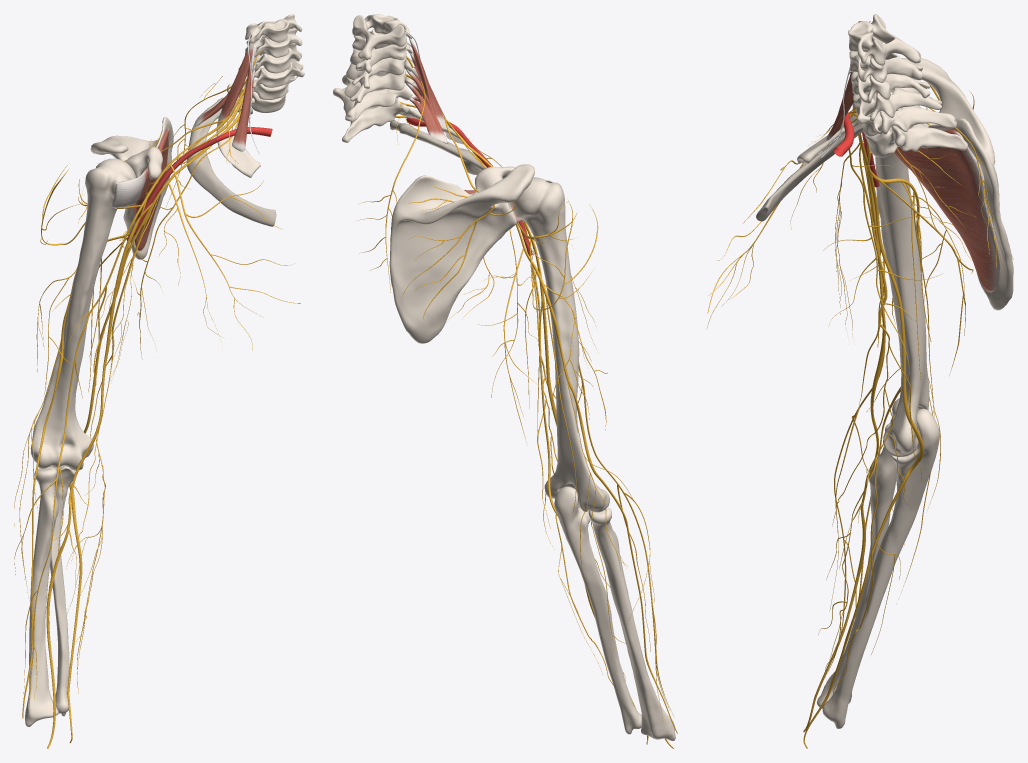
The model's file is brachial-plexus-and-branches.glb.
3 views of the same model, side by side, from view 1: azimuth 30°, elevation 25°; view 2: azimuth 150°, elevation 25°; view 3: azimuth 270°, elevation 25° (orthographic). The views are drawn at different scales.
Parts seen in each view (by area): view 1: Humerus.r, Radius.r, Scapula.r, Ulna.r, Rib (2nd).r, Median nerve.r, Subscapularis muscle.r, Medial antebrachial cutaneous nerve.r, Ulnar nerve.r, Musculocutaneus nerve - lateral antebrachial cutaneous nerve, Rib (1st).r, Musculocutaneus nerve.r (+16 smaller); view 2: Scapula.r, Humerus.r, Ulna.r, Radius.r, Radial nerve.r, Cervical vertebra (C3), Thoracic vertebra (T1), Cervical vertebra (C7), Medial antebrachial cutaneous nerve.r, Rib (2nd).r, Cervical vertebra (C6), Suprascapular nerve.r (+11 smaller); view 3: Humerus.r, Ulna.r, Subscapularis muscle.r, Scapula.r, Radius.r, Medial antebrachial cutaneous nerve.r, Ulnar nerve.r, Thoracic vertebra (T1), Cervical vertebra (C3), Median nerve.r, Cervical vertebra (C7), Cervical vertebra (C6) (+11 smaller).
Part boxes in pixels (box(x1,y1,x2,y2)): Humerus.r: box(30, 158, 136, 470); Radius.r: box(25, 466, 58, 726); Scapula.r: box(90, 117, 173, 259); Ulna.r: box(49, 465, 75, 716); Rib (2nd).r: box(186, 97, 276, 226); Median nerve.r: box(46, 217, 140, 748); Subscapularis muscle.r: box(112, 128, 169, 250); Medial antebrachial cutaneous nerve.r: box(66, 200, 155, 693); Ulnar nerve.r: box(67, 203, 153, 743); Musculocutaneus nerve - lateral antebrachial cutaneous nerve: box(14, 462, 63, 706); Rib (1st).r: box(216, 93, 260, 177); Musculocutaneus nerve.r: box(58, 196, 148, 462); Scapula.r: box(389, 164, 534, 343); Humerus.r: box(512, 177, 609, 512); Ulna.r: box(554, 486, 641, 734); Radius.r: box(588, 507, 675, 740); Radial nerve.r: box(516, 223, 597, 513); Cervical vertebra (C3): box(352, 14, 412, 60); Thoracic vertebra (T1): box(333, 87, 409, 142); Cervical vertebra (C7): box(342, 75, 411, 121); Medial antebrachial cutaneous nerve.r: box(523, 221, 626, 684); Rib (2nd).r: box(390, 120, 484, 175); Cervical vertebra (C6): box(346, 63, 414, 102); Suprascapular nerve.r: box(401, 117, 531, 319); Humerus.r: box(875, 87, 929, 456); Ulna.r: box(822, 408, 939, 728); Subscapularis muscle.r: box(852, 102, 1001, 292); Scapula.r: box(852, 57, 1013, 310); Radius.r: box(816, 423, 896, 708); Medial antebrachial cutaneous nerve.r: box(818, 146, 922, 706); Ulnar nerve.r: box(803, 148, 923, 748); Thoracic vertebra (T1): box(864, 108, 967, 157); Cervical vertebra (C3): box(848, 14, 920, 65); Median nerve.r: box(803, 169, 885, 732); Cervical vertebra (C7): box(862, 92, 956, 136); Cervical vertebra (C6): box(853, 87, 941, 123).
Size of the model in its own units: 0.3307 by 0.681 by 0.2181.
Materials: 20 (2 with a texture image).
